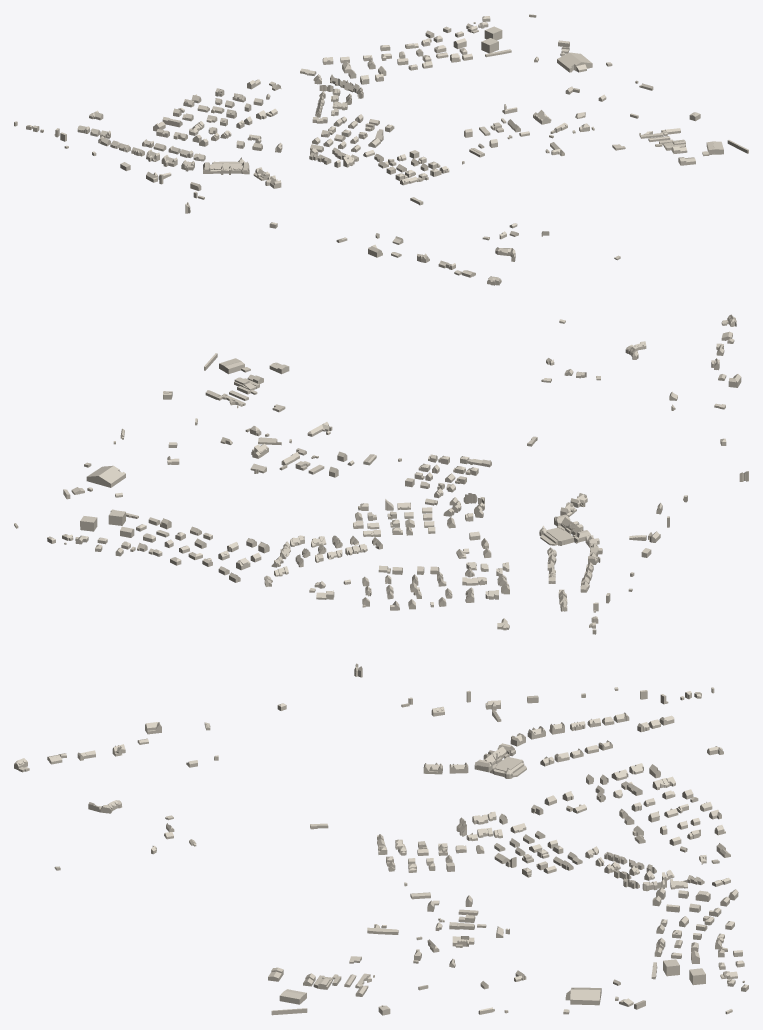
3 views of the same model, one above another, from view 1: azimuth 30°, elevation 25°; view 2: azimuth 150°, elevation 25°; view 3: azimuth 270°, elevation 25° (orthographic). The views are drawn at different scales.
Bounding box in the file's own units: 877 × 87.33 × 900.
